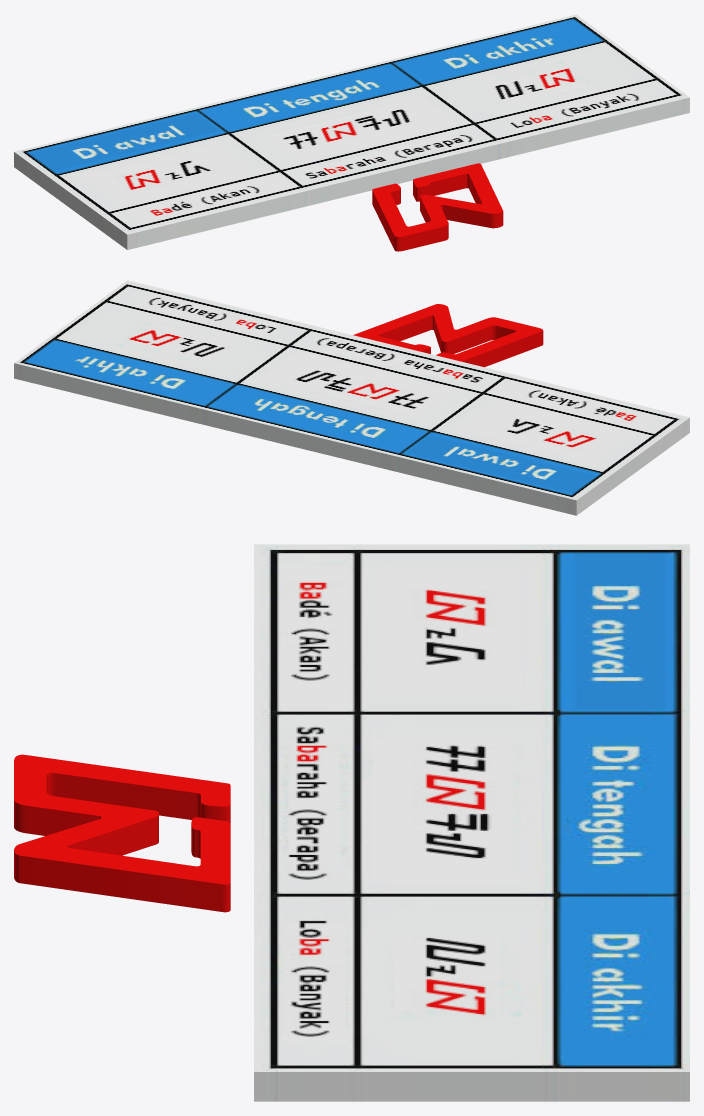
The picture shows the model from 3 angles, top to bottom: view 1: azimuth 30°, elevation 25°; view 2: azimuth 150°, elevation 25°; view 3: azimuth 270°, elevation 25°; orthographic projection. The views are drawn at different scales.
Parts seen in each view (by area): view 1: contoh-bunyi-huruf-ba-Ngalagena, Text; view 2: contoh-bunyi-huruf-ba-Ngalagena, Text; view 3: contoh-bunyi-huruf-ba-Ngalagena, Text.
Part boxes in pixels (bbox=[...]): contoh-bunyi-huruf-ba-Ngalagena: bbox=[14, 14, 689, 249]; Text: bbox=[372, 163, 503, 251]; contoh-bunyi-huruf-ba-Ngalagena: bbox=[14, 280, 689, 515]; Text: bbox=[353, 304, 543, 367]; contoh-bunyi-huruf-ba-Ngalagena: bbox=[254, 544, 689, 1101]; Text: bbox=[14, 754, 230, 912].
Size of the model in its own units: 2.86 by 0.11 by 1.55.
2 materials, 1 textured.
